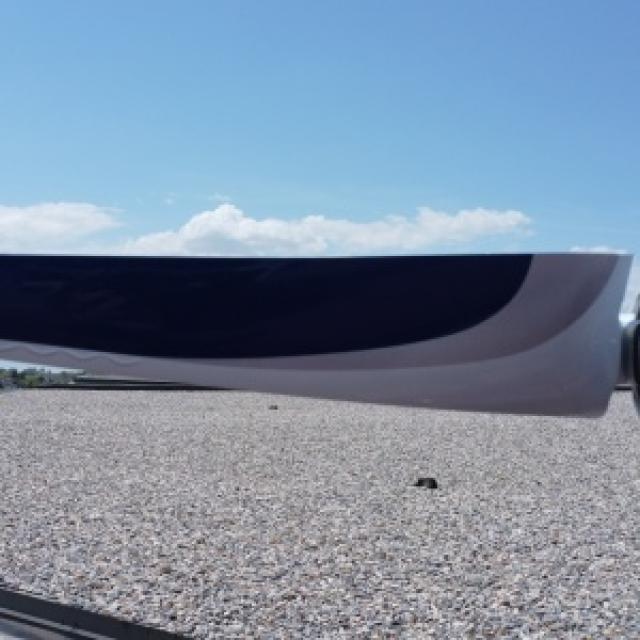healthy: (0, 254, 627, 414)
